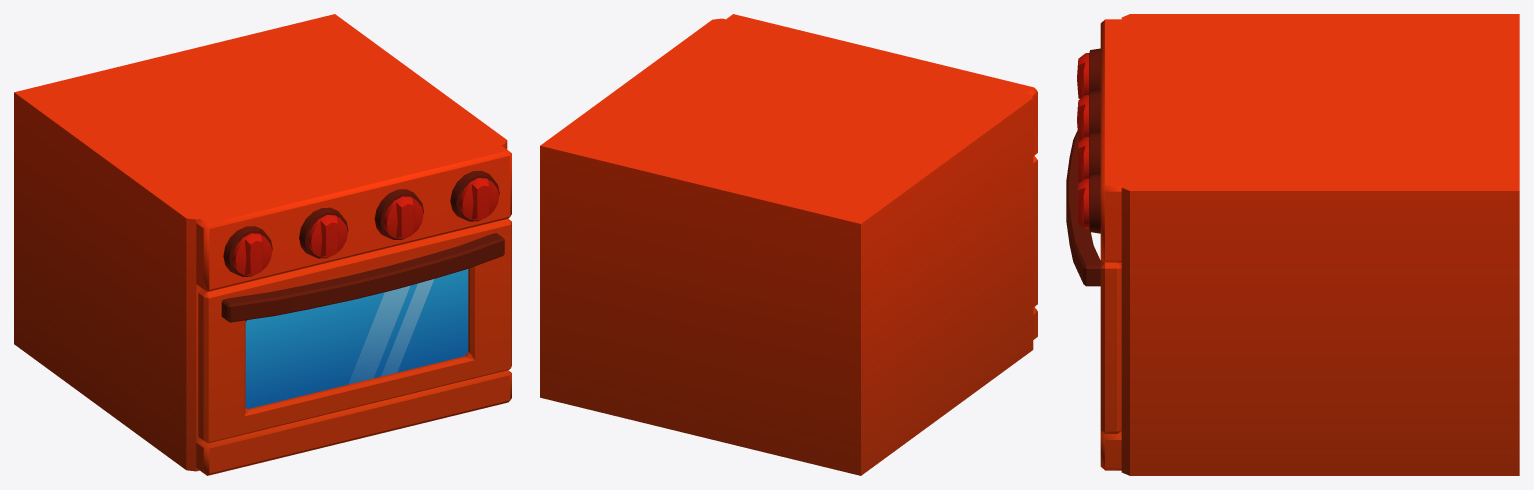
File: Counter_F_Stove_01_C02.fbx
3 renders of one model, left to right at view 1: azimuth 30°, elevation 25°; view 2: azimuth 150°, elevation 25°; view 3: azimuth 270°, elevation 25°, orthographic. The views are drawn at different scales.
Parts seen in each view (by area): view 1: Counter_F_Stove_01_C02, Counter_F_Stove_01_C02_Door; view 2: Counter_F_Stove_01_C02, Counter_F_Stove_01_C02_Door; view 3: Counter_F_Stove_01_C02, Counter_F_Stove_01_C02_Door.
Part boxes in pixels (left/top/right/bottom): Counter_F_Stove_01_C02: left=14, top=14, right=511, bottom=475; Counter_F_Stove_01_C02_Door: left=198, top=218, right=511, bottom=443; Counter_F_Stove_01_C02: left=540, top=14, right=1037, bottom=475; Counter_F_Stove_01_C02_Door: left=1033, top=156, right=1037, bottom=307; Counter_F_Stove_01_C02: left=1077, top=14, right=1519, bottom=475; Counter_F_Stove_01_C02_Door: left=1066, top=130, right=1121, bottom=433.
Size of the model in its own units: 100 by 75 by 108.
